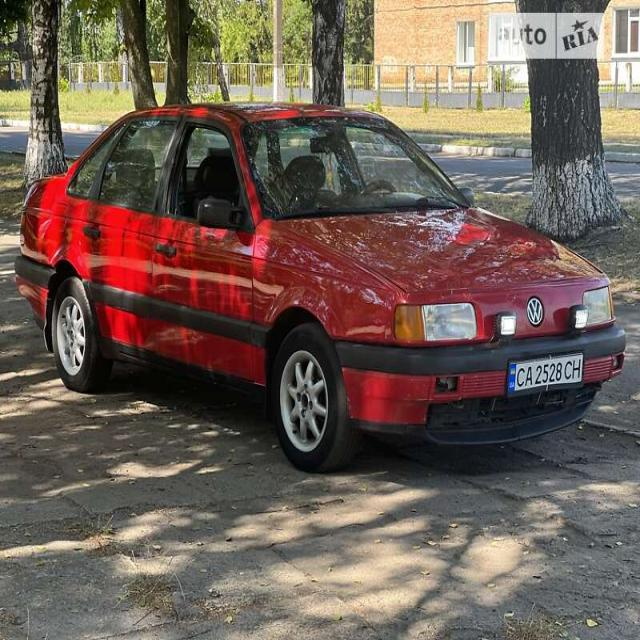plate: (508, 347, 587, 408)
